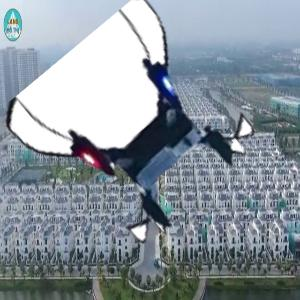drone: (36, 26, 245, 235)
